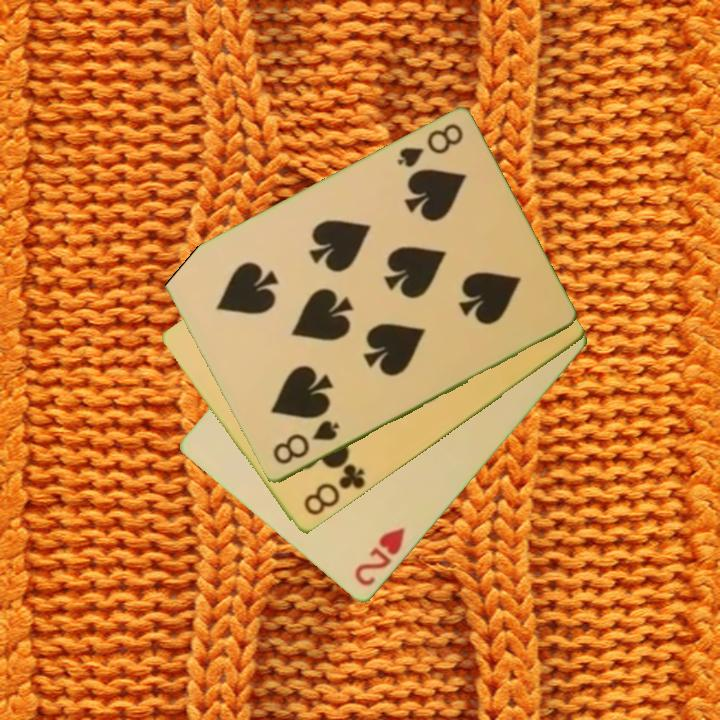2h: (351, 524, 408, 590)
8c: (300, 460, 369, 519)
8s: (269, 417, 343, 468), (393, 120, 466, 171)
